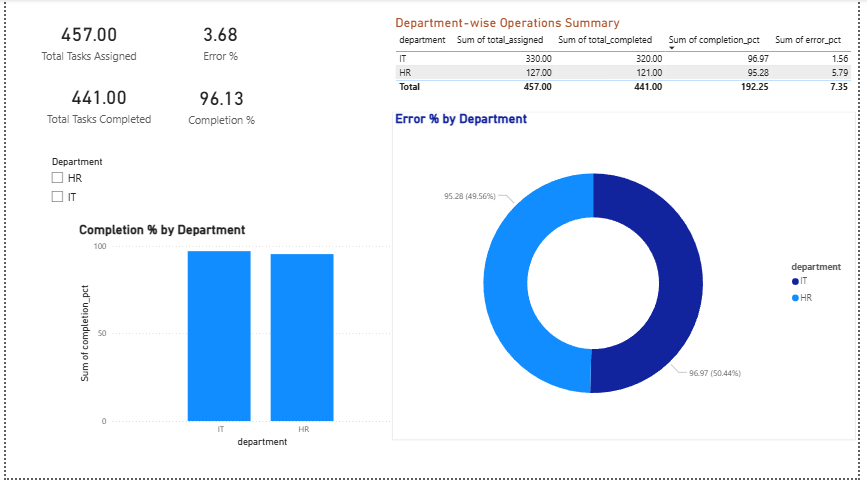

The page's visual inventory and layout, read from the dashboard file:
{"tool":"powerbi","page":{"name":"operations_kpi_analysis","canvas":[1280,720],"ordinal":0},"visuals":[{"type":"card","fields":{"Values":["Sum(practice_db operations_kpi_summary.total_assigned)"]},"box":[9.6,12.7,230.8,97.1],"z":0},{"type":"card","fields":{"Values":["Sum(practice_db operations_kpi_summary.total_completed)"]},"box":[0,109.8,280.2,93.9],"z":1000},{"type":"card","fields":{"Values":["Avg(practice_db operations_kpi_summary.completion_pct)"]},"box":[221.3,105.1,205.4,105.1],"z":2000},{"type":"card","fields":{"Values":["Avg(practice_db operations_kpi_summary.error_pct)"]},"box":[211.7,12.7,221.3,97.1],"z":3000},{"type":"clusteredColumnChart","title":"Completion % by Department","fields":{"Category":["practice_db operations_kpi_summary.department"],"Y":["Sum(practice_db operations_kpi_summary.completion_pct)"]},"box":[105.1,334.3,509.4,343.9],"z":4000},{"type":"donutChart","title":"Error % by Department","fields":{"Category":["practice_db operations_kpi_summary.department"],"Y":["Sum(practice_db operations_kpi_summary.completion_pct)"]},"box":[579.5,168.7,697.3,495.1],"z":5000},{"type":"tableEx","title":"Department-wise Operations Summary","fields":{"Values":["practice_db operations_kpi_summary.department","Sum(practice_db operations_kpi_summary.total_assigned)","Sum(practice_db operations_kpi_summary.total_completed)","Sum(practice_db operations_kpi_summary.completion_pct)","Sum(practice_db operations_kpi_summary.error_pct)"]},"box":[579.5,23.9,697.3,144.9],"z":6000},{"type":"slicer","fields":{"Values":["practice_db operations_kpi_summary.department"]},"box":[55.7,230.8,165.6,103.5],"z":7000}]}

Visuals, with their boxes in screenshot pixels (x1, y1, x2, y2), scaled from the page's 1280x720 canvas onto the 867x482 screenshot:
card - Sum(practice_db operations_kpi_summary.total_assigned): <box>7,9,163,74</box>
card - Sum(practice_db operations_kpi_summary.total_completed): <box>0,74,190,136</box>
card - Avg(practice_db operations_kpi_summary.completion_pct): <box>150,70,289,141</box>
card - Avg(practice_db operations_kpi_summary.error_pct): <box>143,9,293,74</box>
"Completion % by Department" clusteredColumnChart: <box>71,224,416,454</box>
"Error % by Department" donutChart: <box>393,113,865,444</box>
"Department-wise Operations Summary" tableEx: <box>393,16,865,113</box>
slicer - practice_db operations_kpi_summary.department: <box>38,155,150,224</box>
